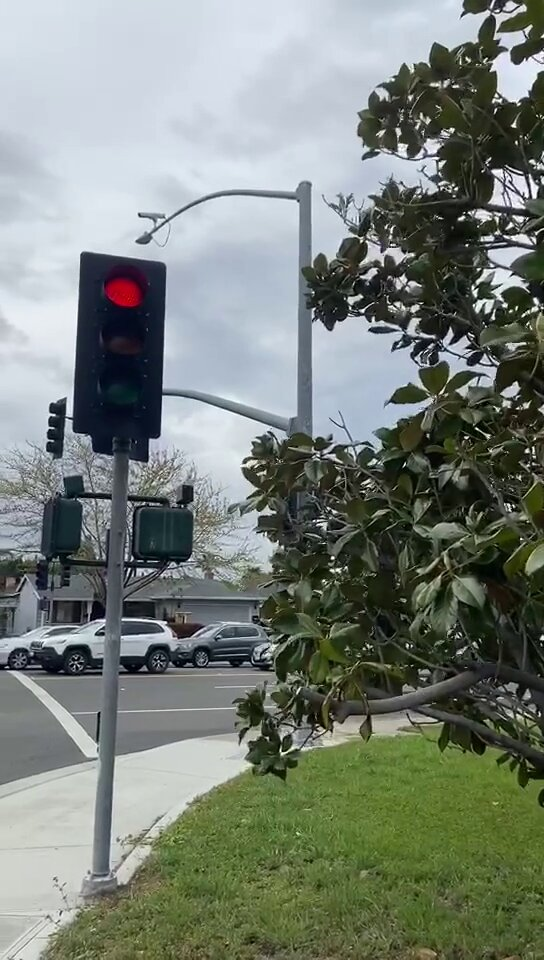red_light: (82, 260, 157, 430)
